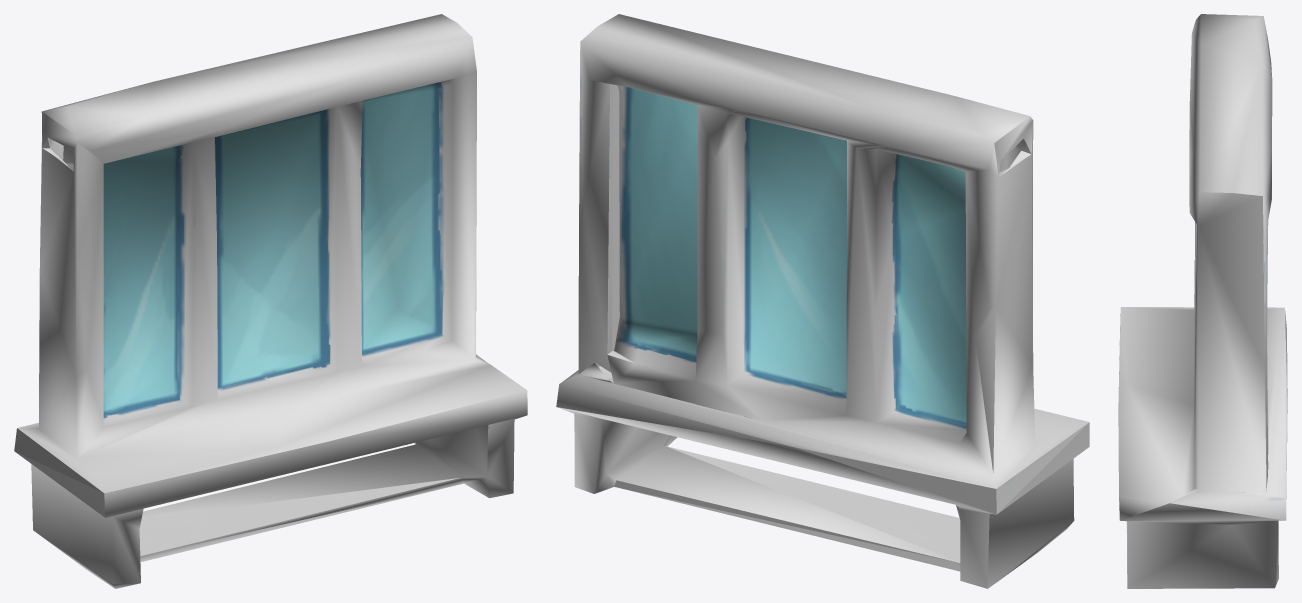
The model's file is bay-window.glb.
3 views of the same model, side by side, from view 1: azimuth 30°, elevation 25°; view 2: azimuth 150°, elevation 25°; view 3: azimuth 270°, elevation 25° (orthographic). The views are drawn at different scales.
Visible parts, largest first — view 1: geometry_0.001; view 2: geometry_0.001; view 3: geometry_0.001.
Part boxes in pixels (box(x1,y1,x2,y2)): geometry_0.001: box(14, 14, 527, 588); geometry_0.001: box(556, 14, 1089, 588); geometry_0.001: box(1118, 14, 1287, 588).
Size of the model in its own units: 1 by 0.9639 by 0.3719.
Materials: 1 (1 with a texture image).
